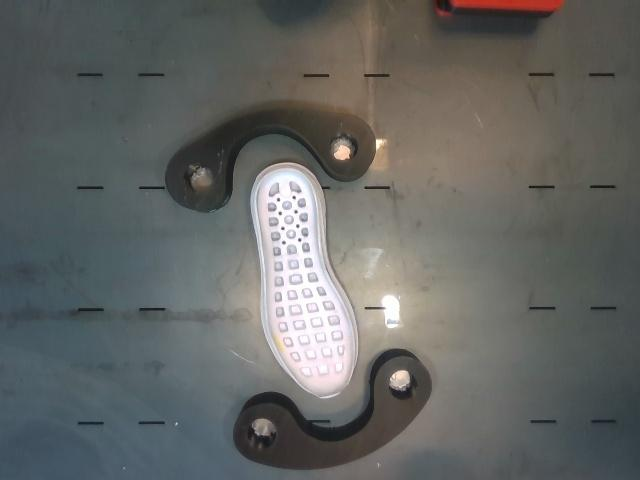shoes: (257, 169, 354, 397)
